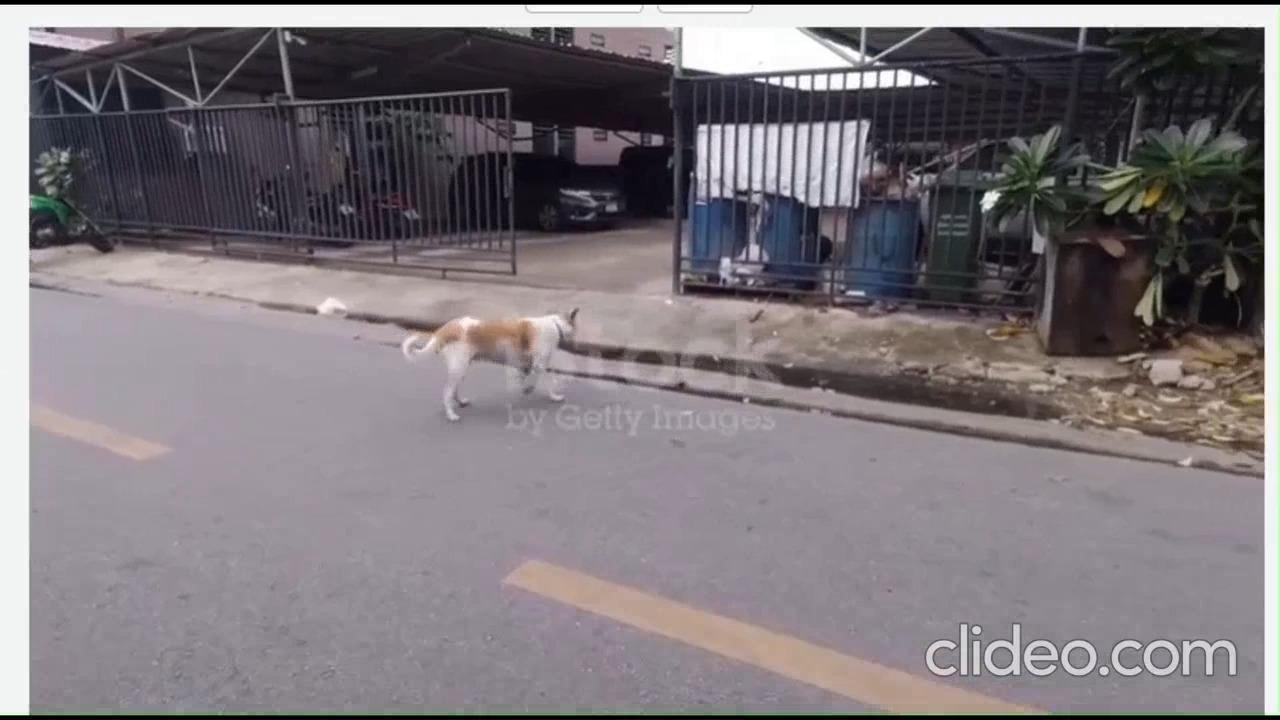dog: (403, 303, 608, 426)
